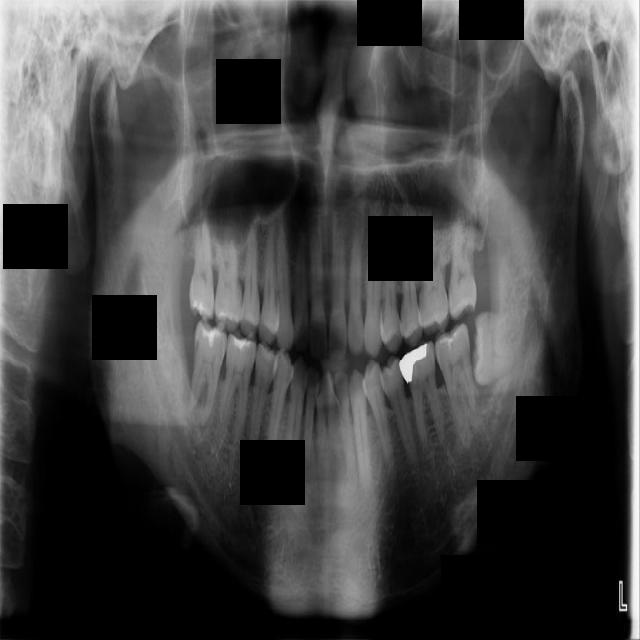52: (192, 315, 228, 373), (223, 327, 260, 380), (398, 340, 435, 387)
73: (615, 580, 621, 594)
BioHorizons Implant: (449, 201, 477, 322)
Biomet 3i Implant: (468, 305, 529, 389)
Blue Sky Bio Implant: (433, 324, 482, 430)
Caries: (188, 218, 214, 321)
Implant: (187, 316, 229, 426)
